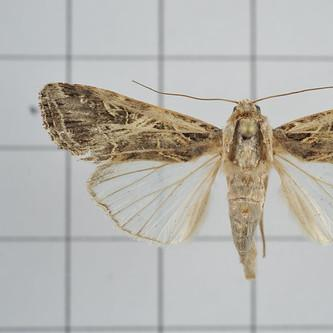Spodoptera litura: (38, 79, 333, 280)
